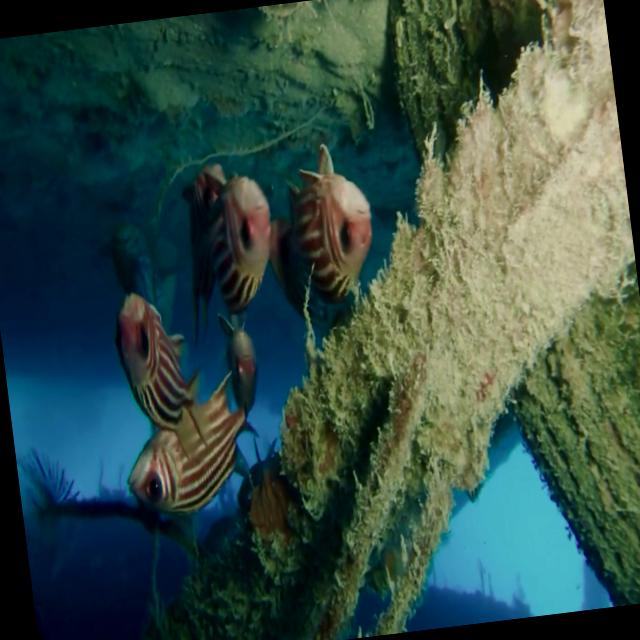Asker Baligi: (255, 116, 385, 316), (113, 364, 267, 524), (163, 136, 287, 328)
